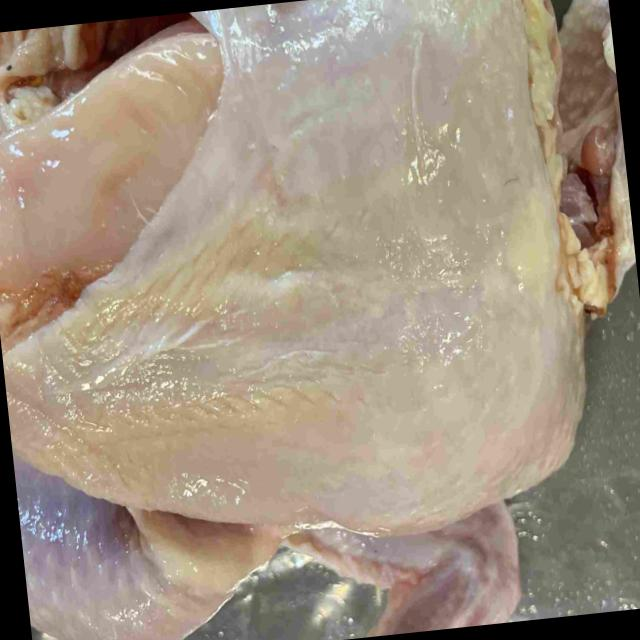breast: (0, 0, 581, 523)
leg: (12, 449, 264, 640)
neck: (563, 0, 634, 301)
wing: (295, 501, 522, 637)
